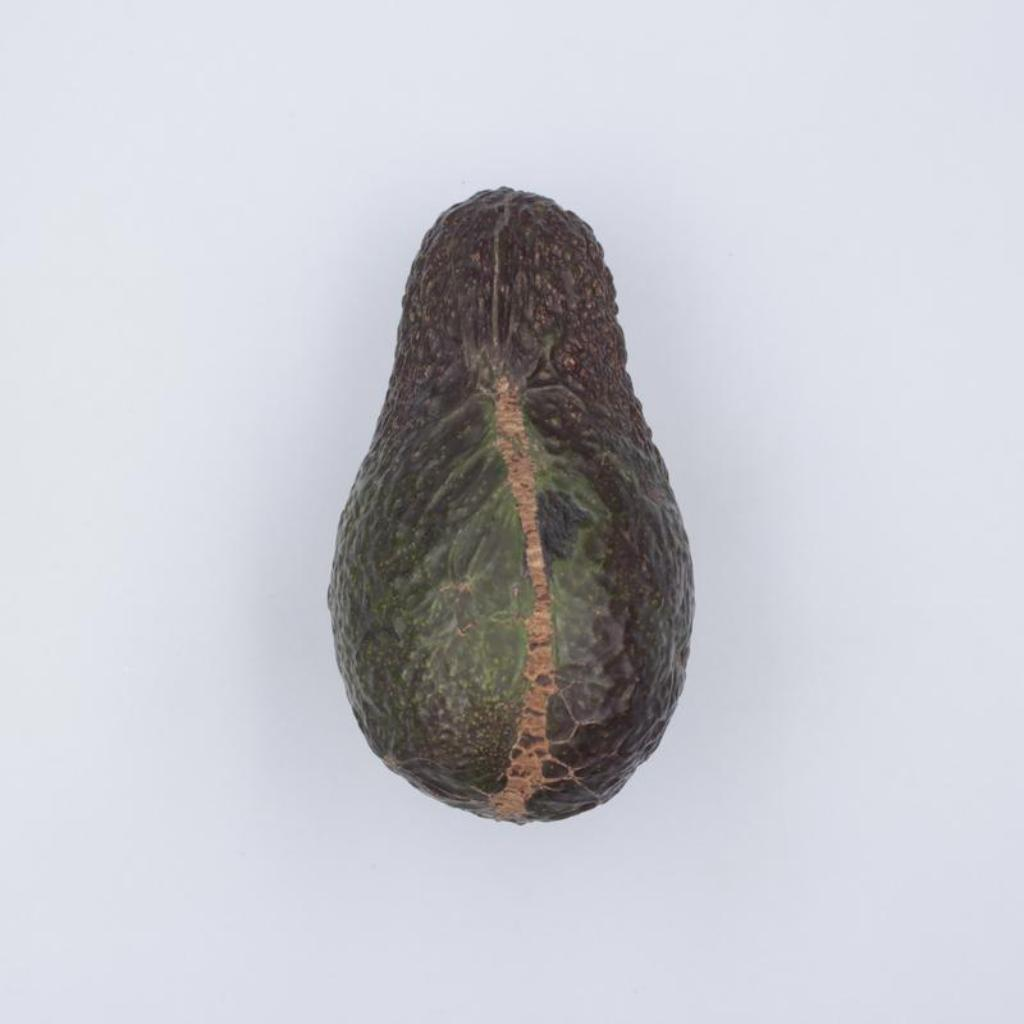rona: (328, 189, 692, 823)
